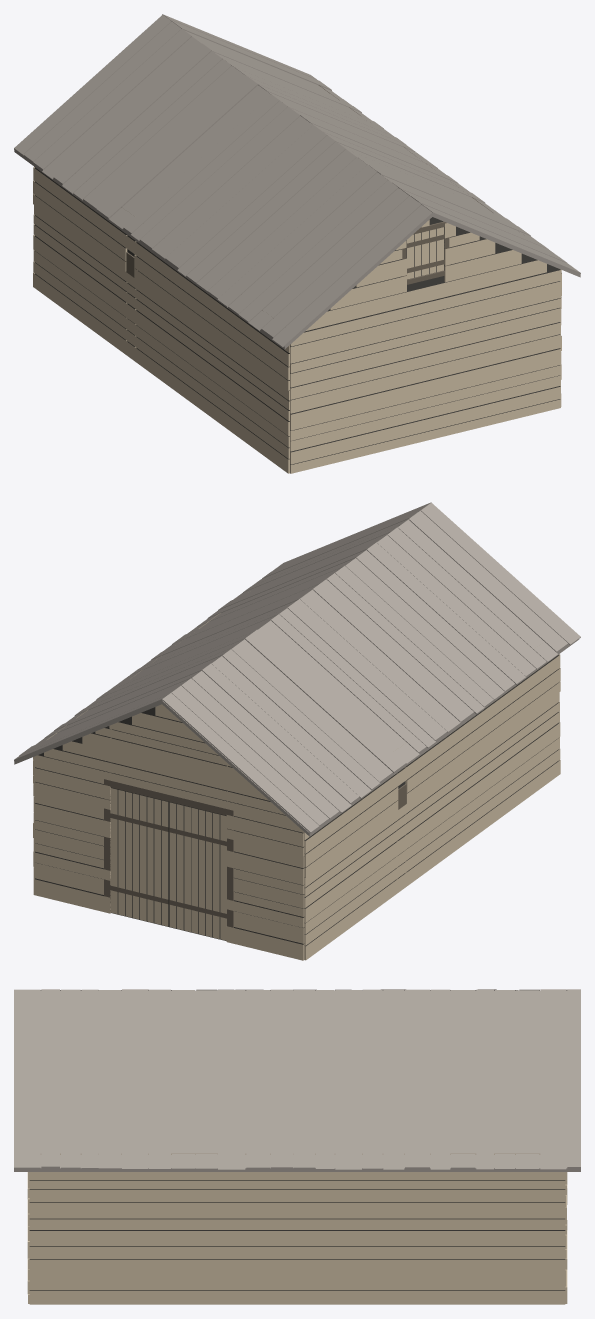
File: recon_1835_west_024__inferred_1835.glb
3 views of the same model, one above another, from view 1: azimuth 30°, elevation 25°; view 2: azimuth 150°, elevation 25°; view 3: azimuth 270°, elevation 25° (orthographic). The views are drawn at different scales.
Visible parts, largest first — view 1: recon_1835_west_024__inferred_1835; view 2: recon_1835_west_024__inferred_1835; view 3: recon_1835_west_024__inferred_1835.
Part boxes in pixels (x1,y1,x2,y2): recon_1835_west_024__inferred_1835: (14,14,580,473); recon_1835_west_024__inferred_1835: (14,502,580,960); recon_1835_west_024__inferred_1835: (14,989,580,1304).
Bounding box in the file's own units: 7.46 × 5.55 × 11.62.
